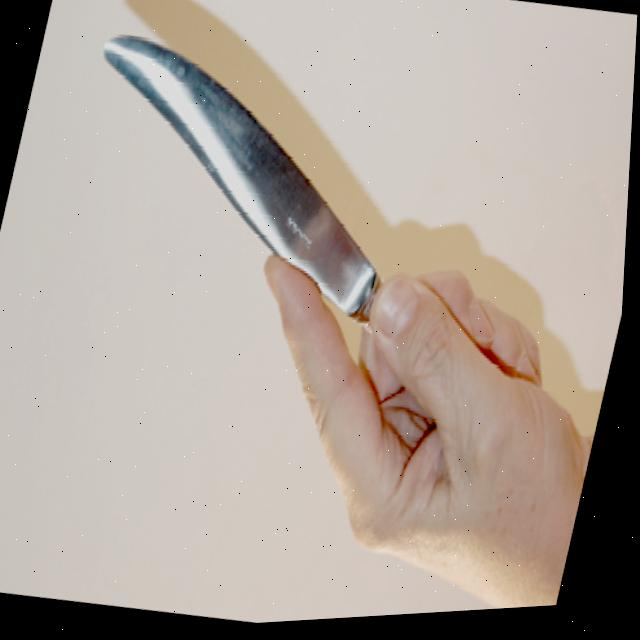knife: (44, 0, 443, 350)
